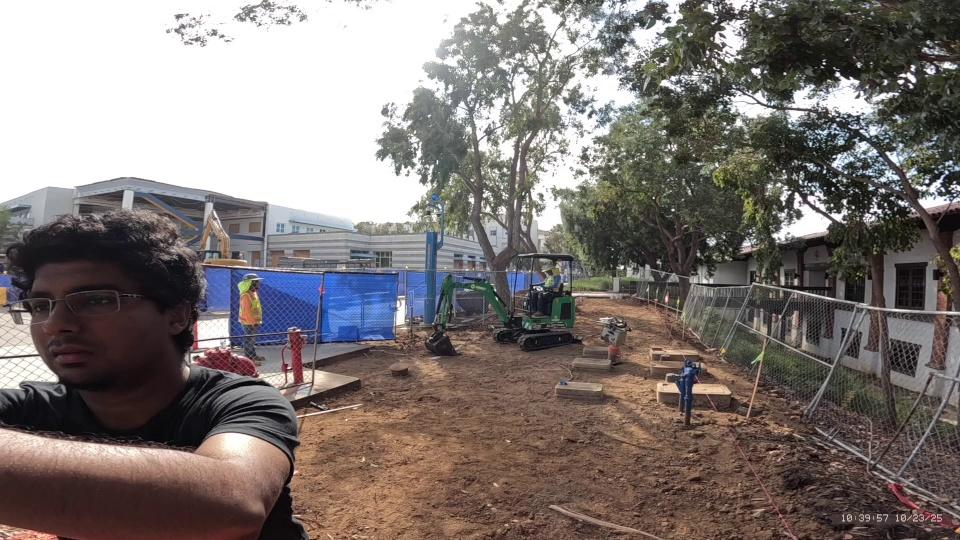Exacavator: (423, 251, 582, 356)
